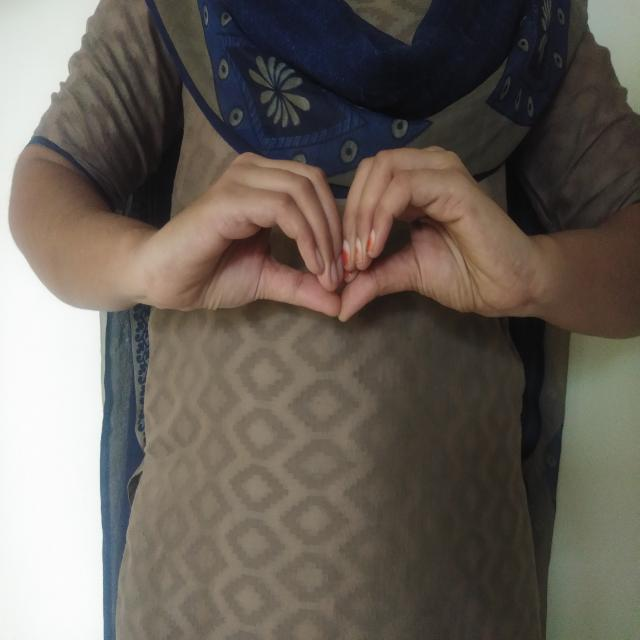B: (122, 126, 556, 344)
